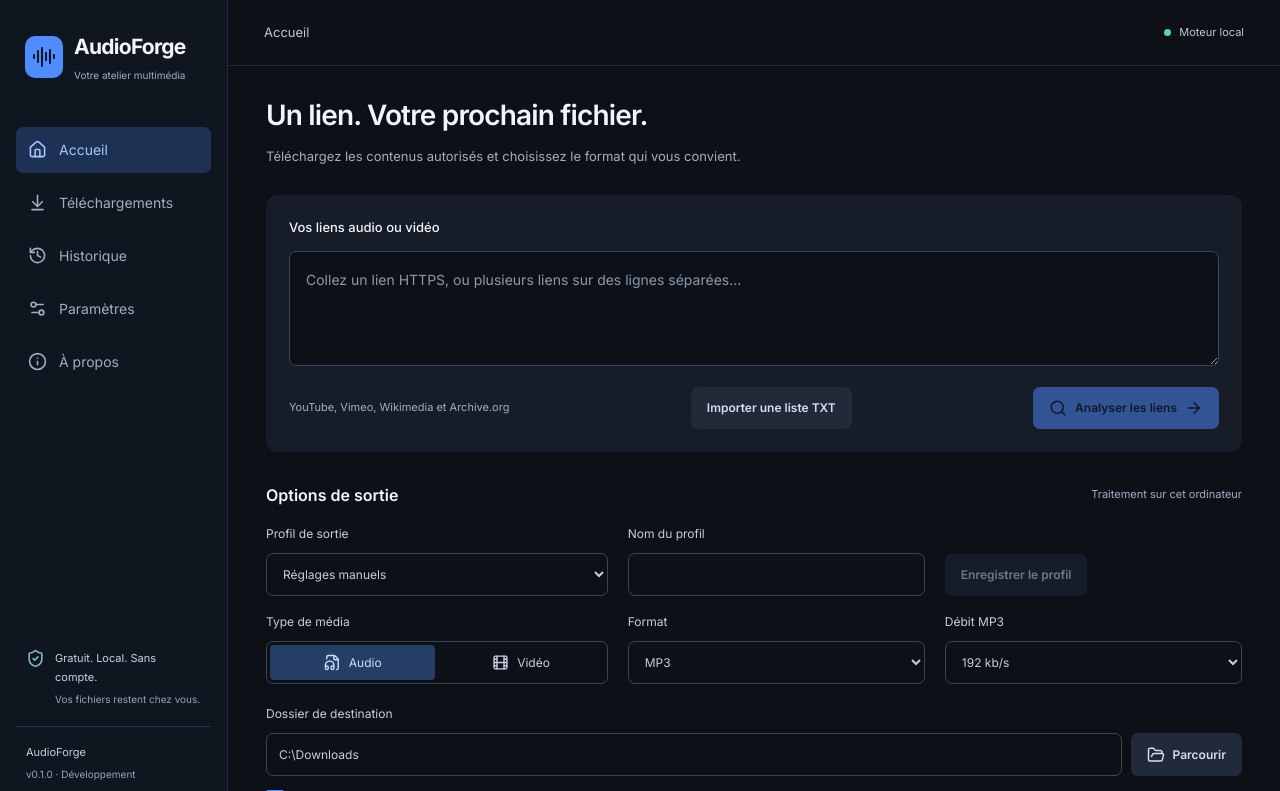
Test: parcours natifs avec IPC simulé › charge la suite sans resélectionner un média écarté ni dupliquer un alias
This screenshot has width=1280, height=791.
In the text box labelled "Vos liens audio ou vidéo": (754, 308) [289, 251, 1219, 366], type "https://vimeo.com/123"
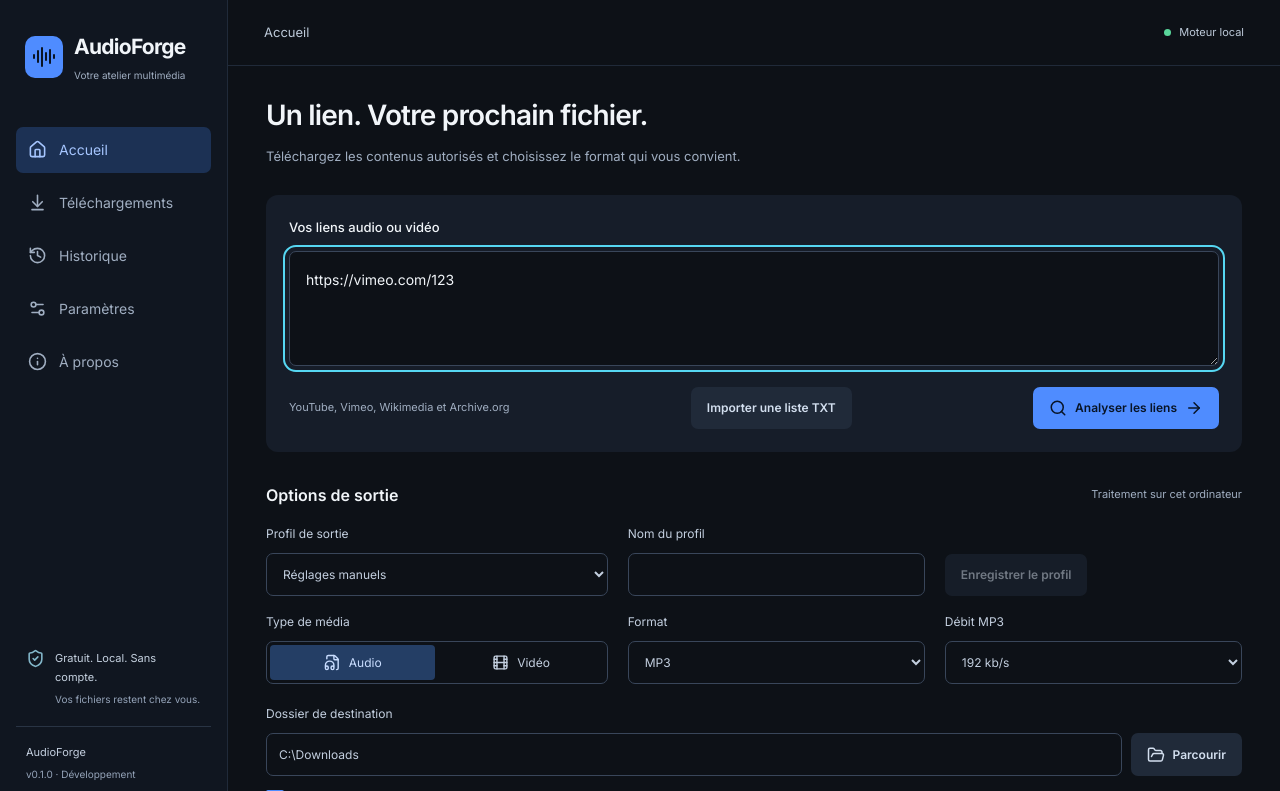
Click the button "Analyser les liens": (1126, 408) [1033, 387, 1219, 429]
(page scrolled)
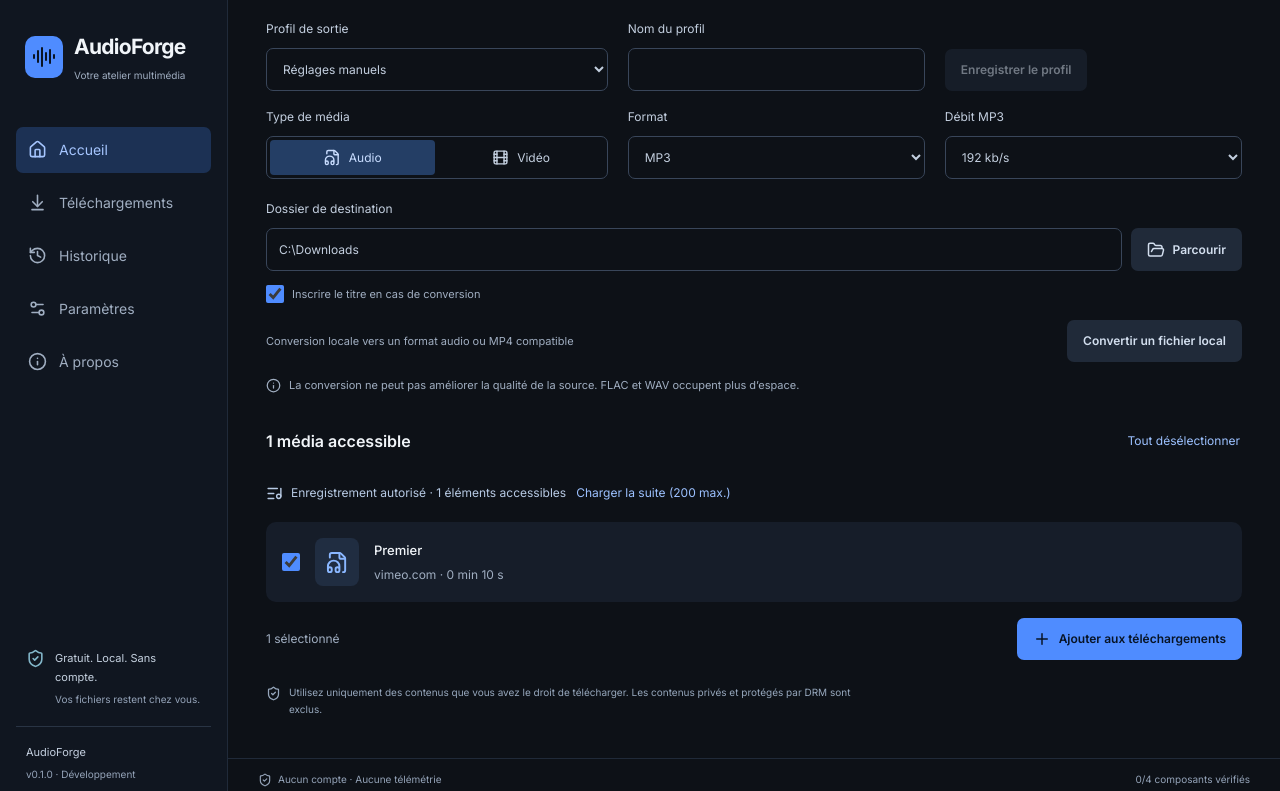
Click the checkbox labelled "Premier vimeo.com · 0 min 10 s": (291, 562) [282, 554, 300, 572]
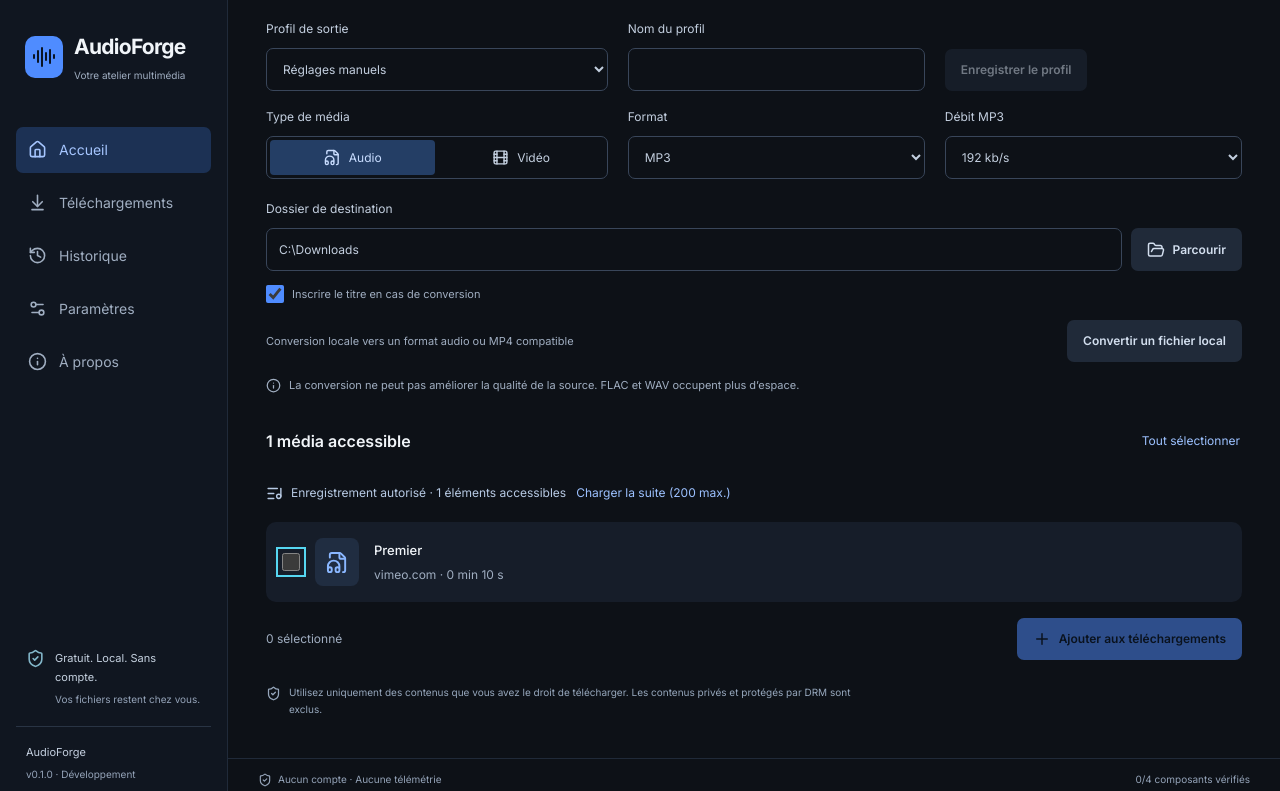
Click the button "Charger la suite (200 max.)": (653, 494) [574, 476, 733, 510]
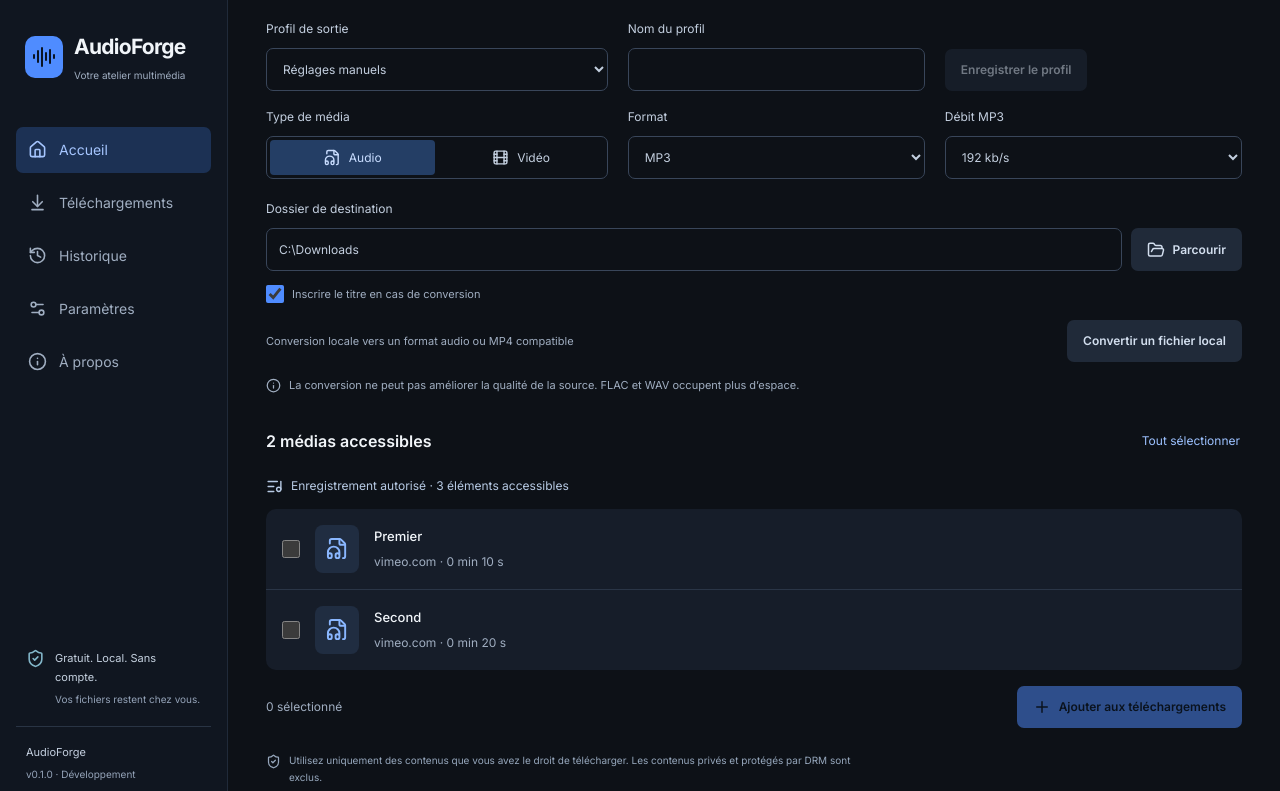
Expected: the checkbox labelled "Premier vimeo.com · 0 min 10 s" is not checked, [282, 540, 300, 558]
Expected: the text "Second" is shown, [374, 609, 421, 625]
Expected: the number of checkboxes labelled "Premier vimeo.com · 0 min 10 s" is 2, [282, 540, 300, 558]; [282, 621, 300, 639]
